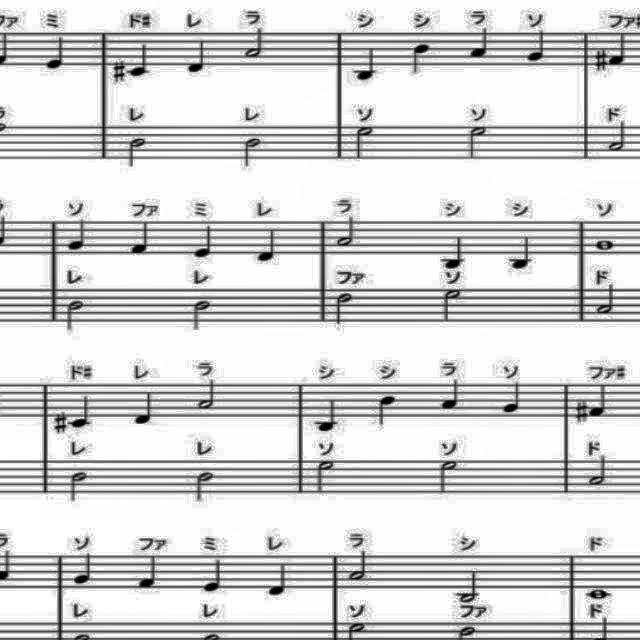Diez: (108, 58, 128, 90), (592, 46, 610, 74), (52, 410, 68, 438), (572, 398, 588, 426)
Full-note: (581, 584, 611, 604), (590, 236, 618, 252)
Half-note: (448, 566, 482, 606), (344, 125, 381, 161), (435, 456, 465, 498), (57, 298, 87, 338), (436, 284, 464, 326), (312, 457, 340, 499), (329, 212, 358, 252), (120, 133, 152, 169), (588, 282, 620, 318), (328, 291, 358, 329), (236, 135, 264, 173), (192, 378, 220, 414), (188, 468, 216, 504), (64, 468, 92, 504), (464, 124, 490, 160), (188, 295, 212, 333), (604, 120, 628, 156), (348, 546, 368, 586), (587, 454, 609, 490), (242, 29, 266, 60)
Quarter-note: (312, 391, 348, 437), (503, 231, 539, 273), (197, 553, 231, 597), (259, 559, 293, 601), (250, 218, 278, 266), (132, 388, 160, 432), (525, 27, 555, 68), (438, 234, 468, 274), (348, 45, 379, 83), (436, 377, 466, 415), (70, 550, 98, 590), (136, 550, 162, 592), (466, 26, 496, 62), (406, 38, 434, 76), (605, 30, 631, 70), (67, 216, 93, 256), (129, 216, 155, 256), (501, 378, 527, 418), (190, 222, 216, 260), (42, 34, 66, 74), (126, 41, 150, 81), (586, 382, 610, 422), (374, 390, 400, 426), (186, 39, 210, 77), (68, 393, 92, 431)
